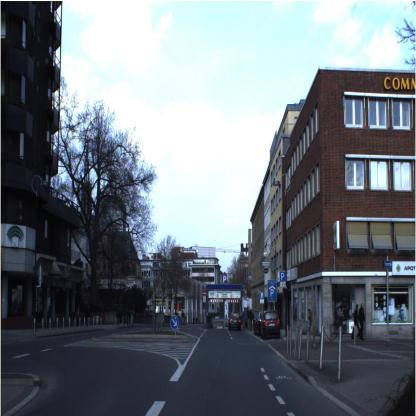mandatory: (169, 310, 180, 333)
